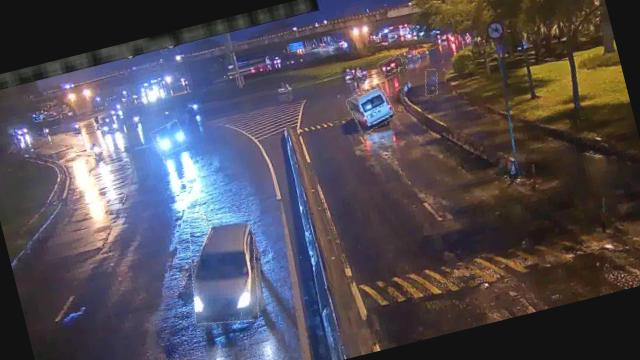Bike: (422, 67, 442, 97)
Bus: (346, 84, 396, 134)
Car: (176, 205, 273, 330), (151, 120, 188, 156), (376, 55, 404, 76)
